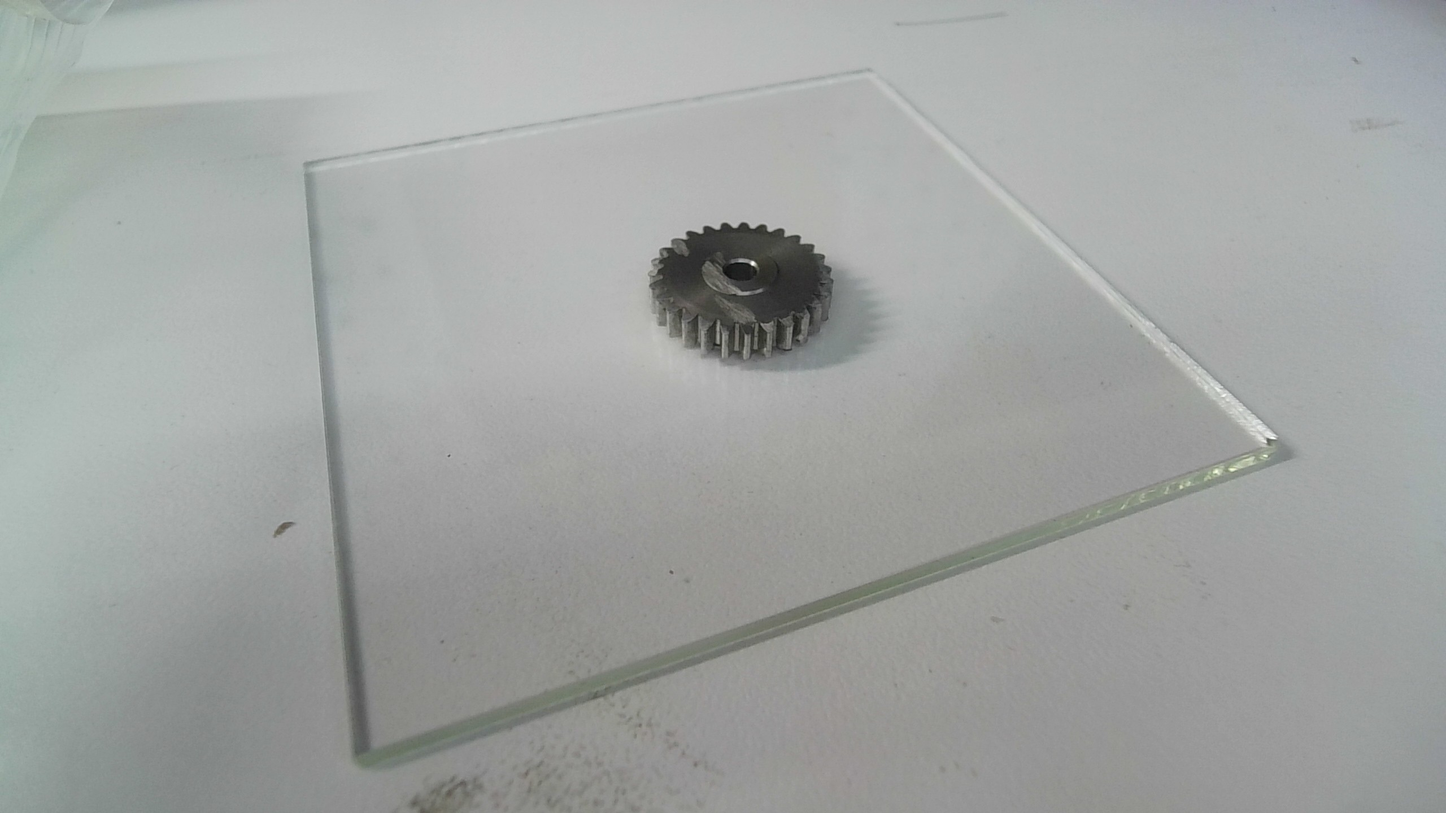gear: (644, 218, 838, 365)
